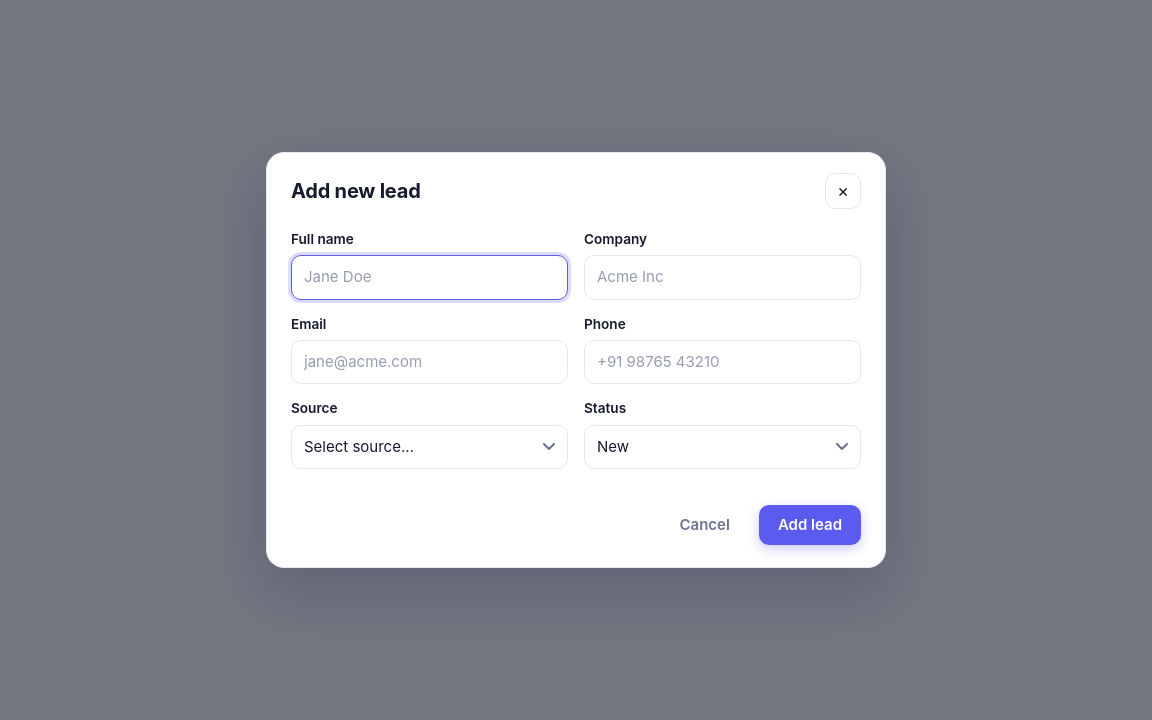
LeadFormModal (add) › clears a field error as soon as the user edits that field
This screenshot has width=1152, height=720.
Click the button "Add lead".
click(810, 525)  # box [759, 505, 861, 545]
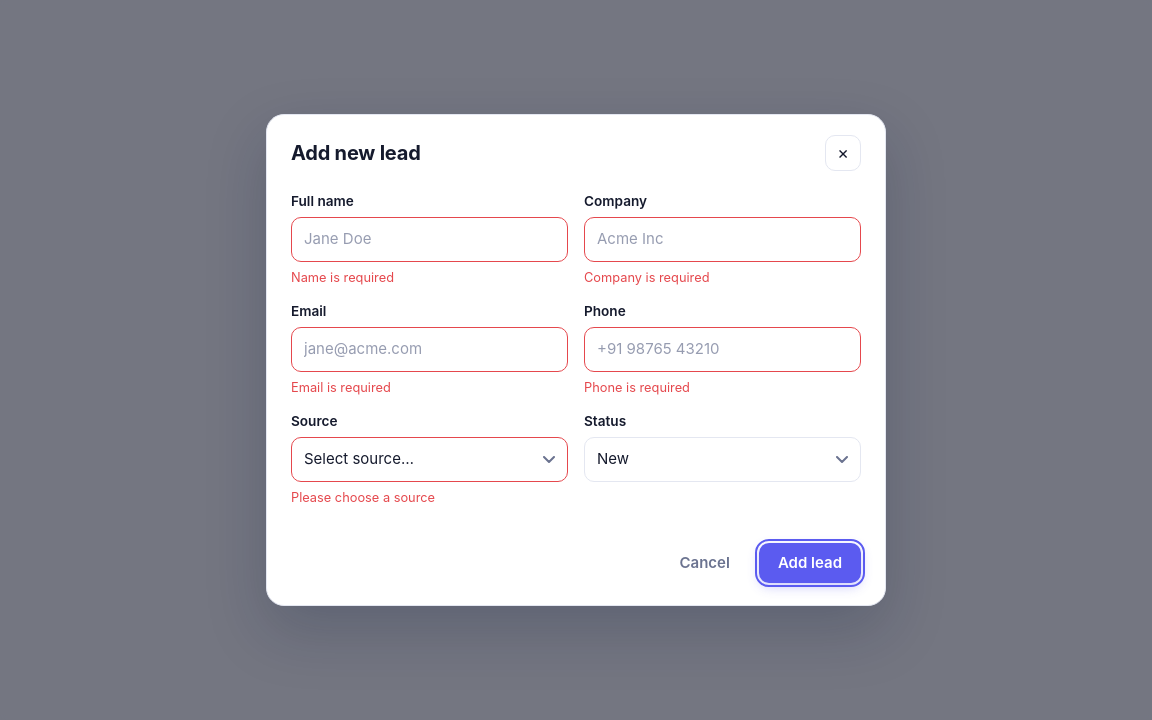
Expected: the text "Name is required" is shown, [291, 270, 394, 285]
Type "J" into the field labelled "Full name".
click(430, 240); type("J")  # box [291, 217, 568, 262]
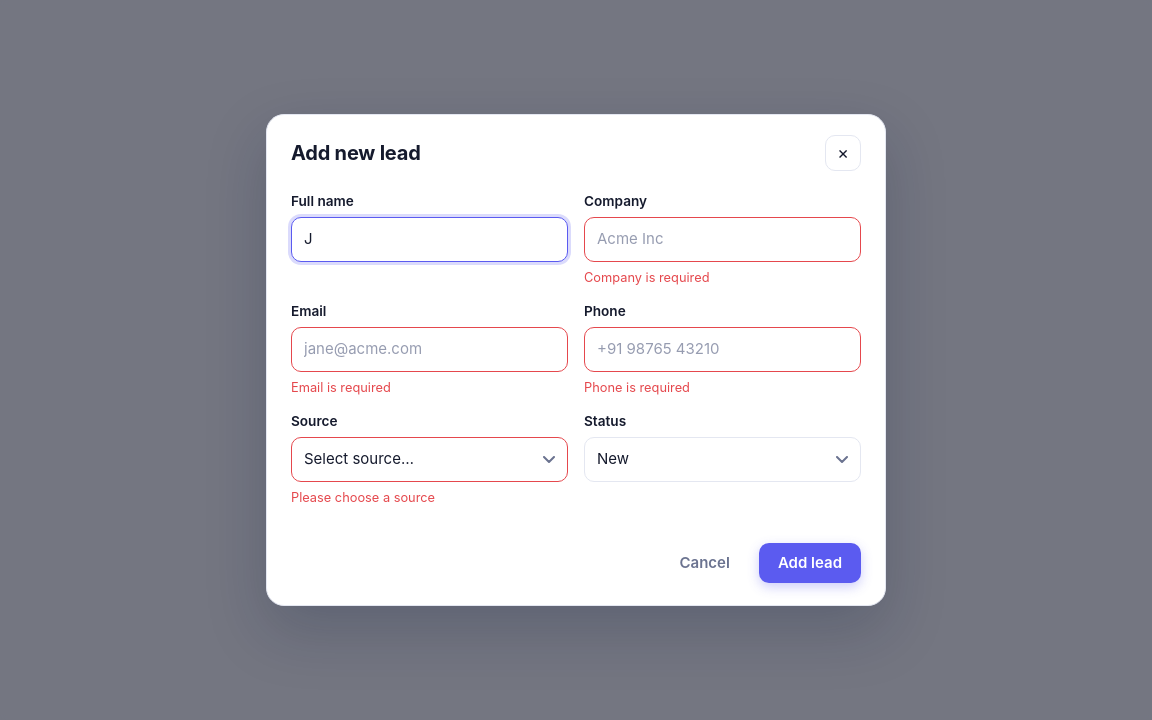
Expected: the text "Name is required" is gone
